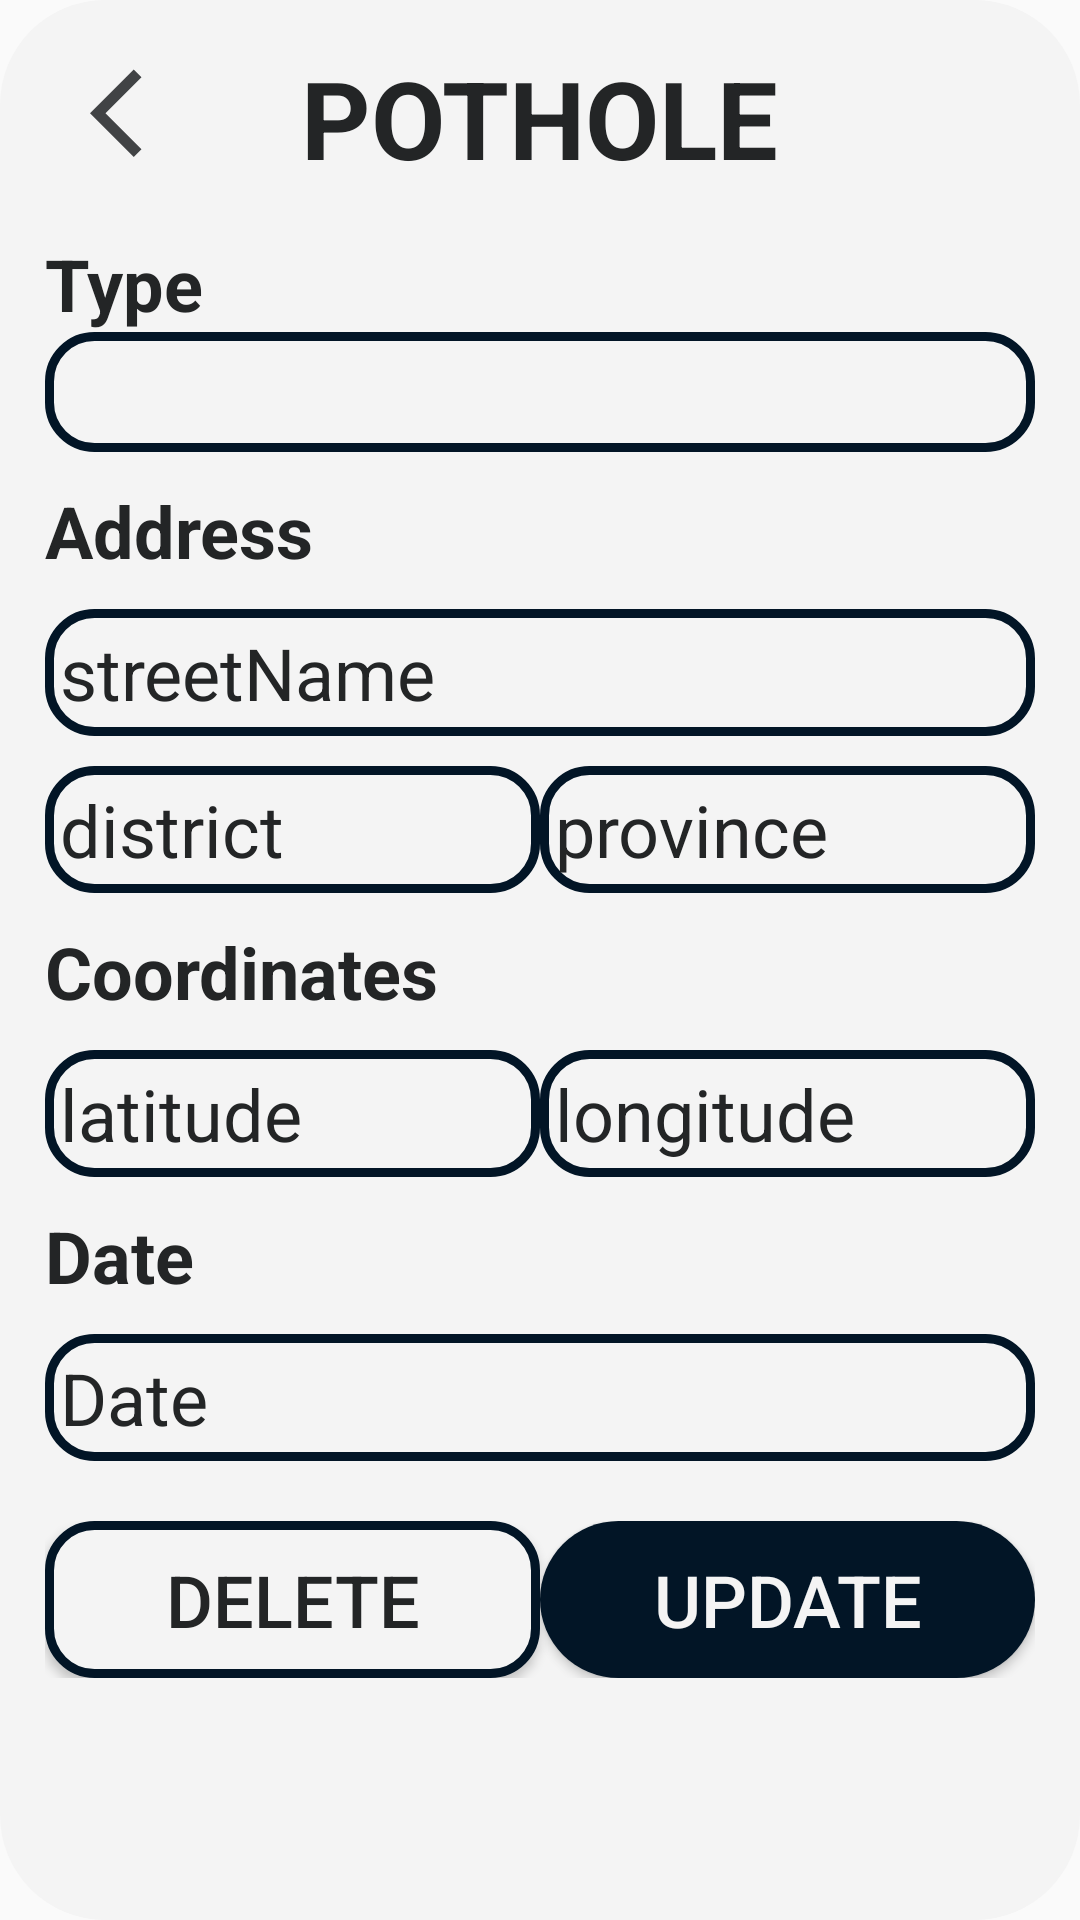

Screen size 1080x1920. Icon name, then its box in pixels as (x1=x1, y1=y1, x2=x2, y2=y2):
back: (x1=90, y1=69, x2=142, y2=157)
